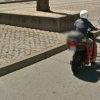Motorcycle: (62, 14, 96, 76)
